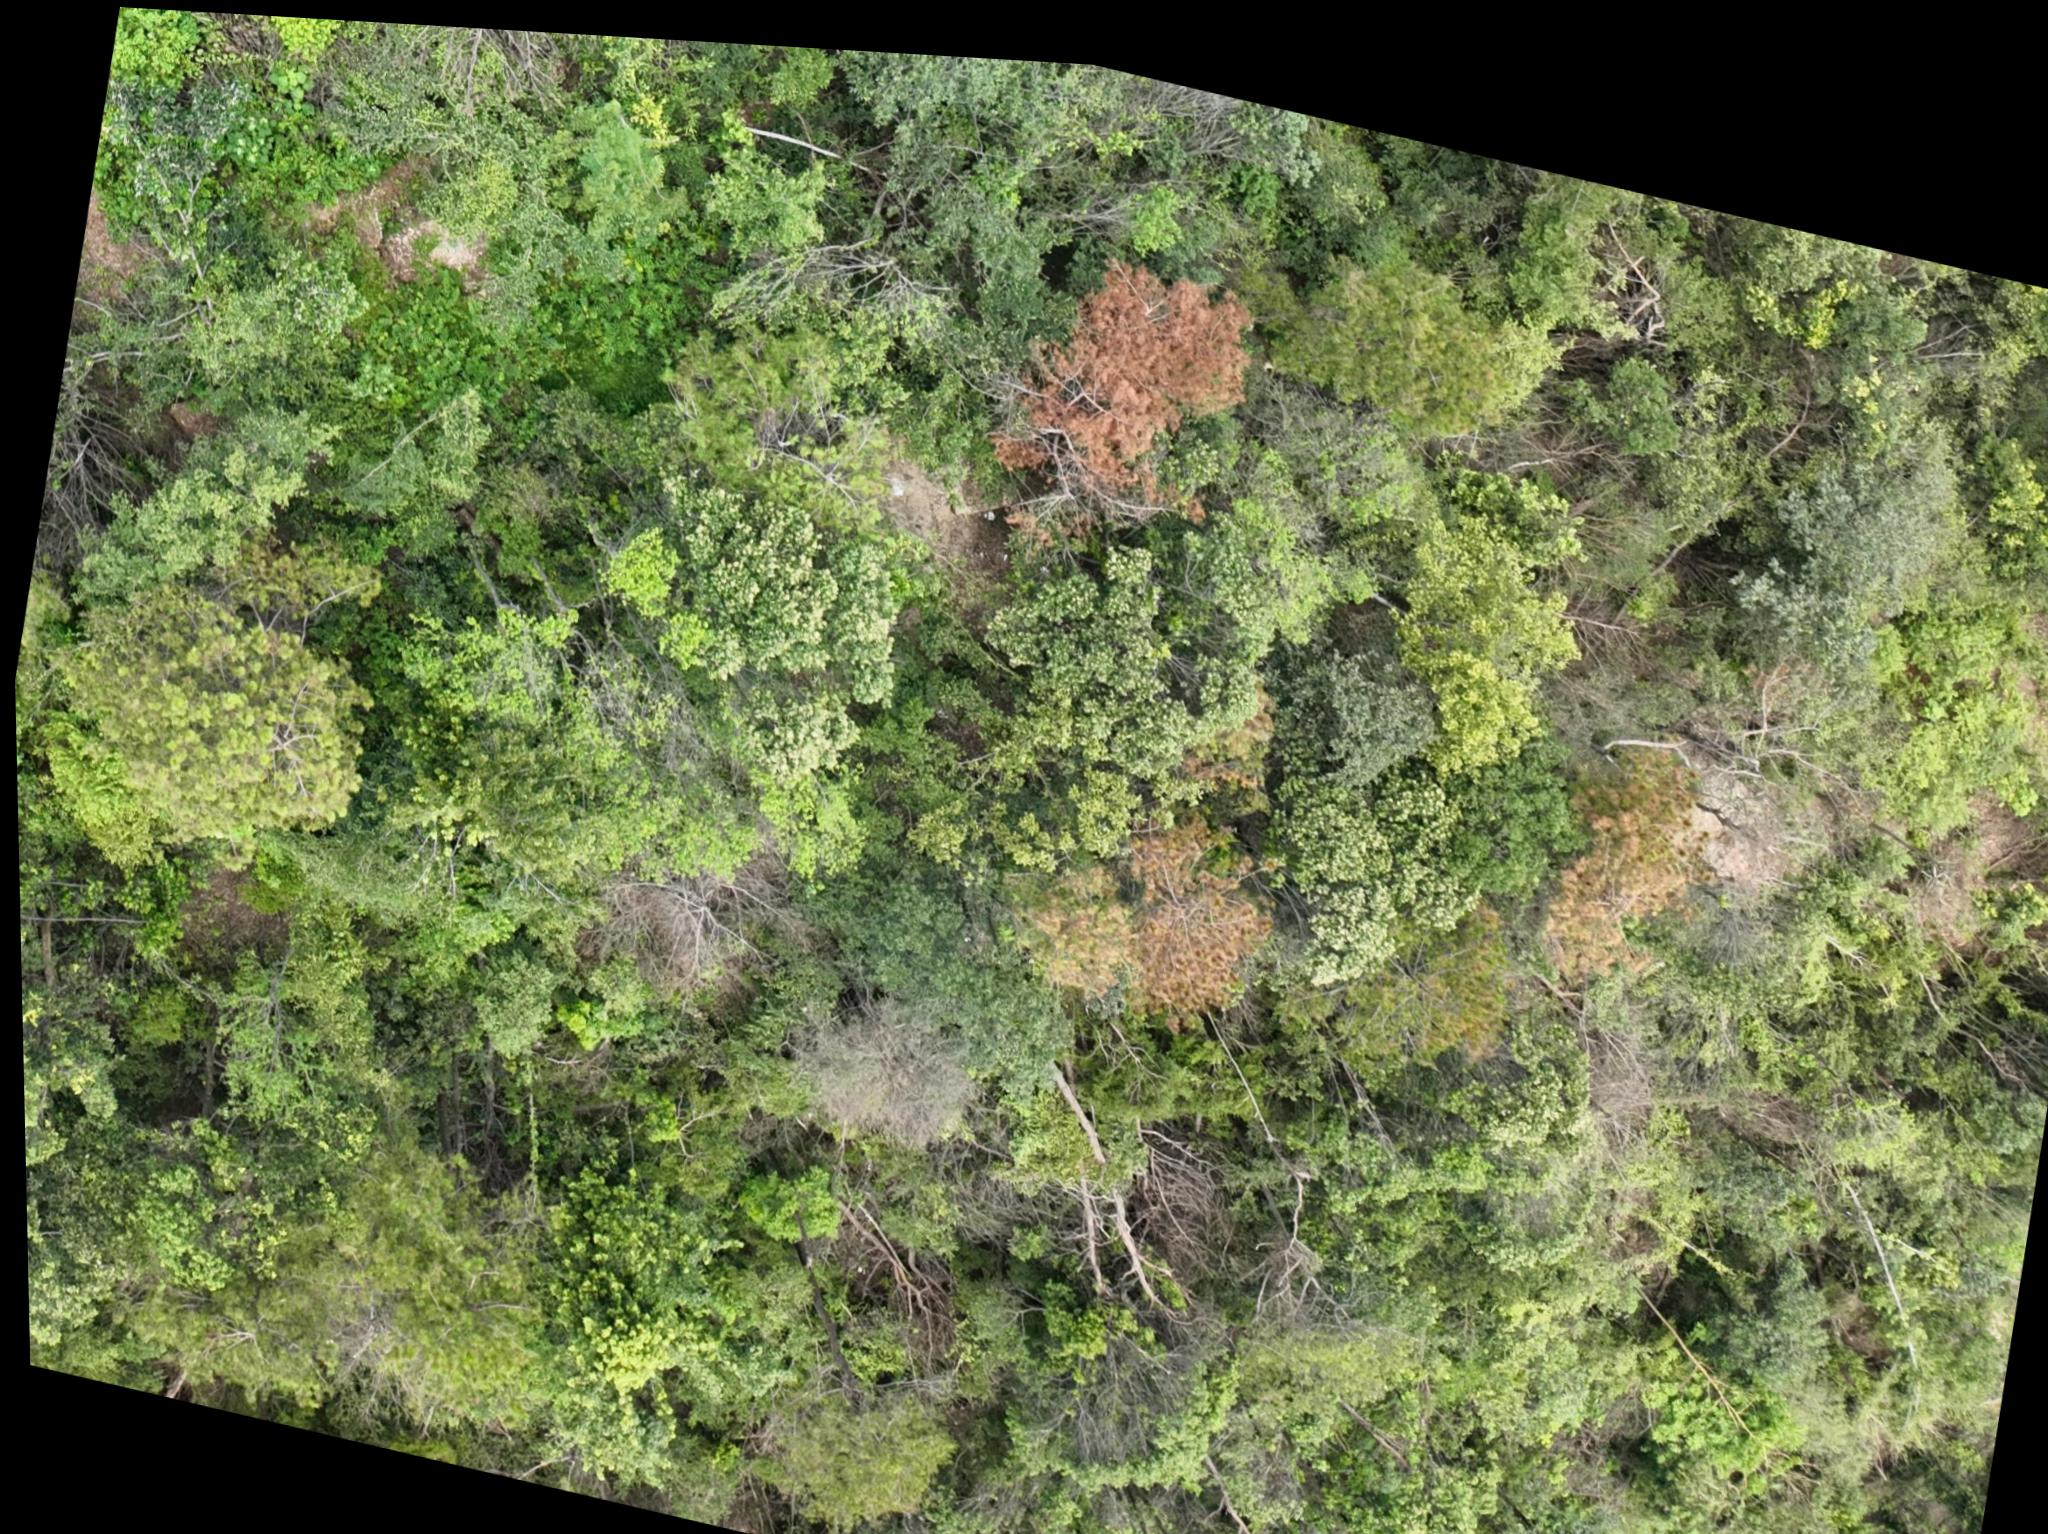dead: (593, 819, 781, 1017), (791, 978, 986, 1163)
heavy: (976, 218, 1270, 533), (1097, 775, 1289, 1030)
light: (1534, 725, 1724, 988)
